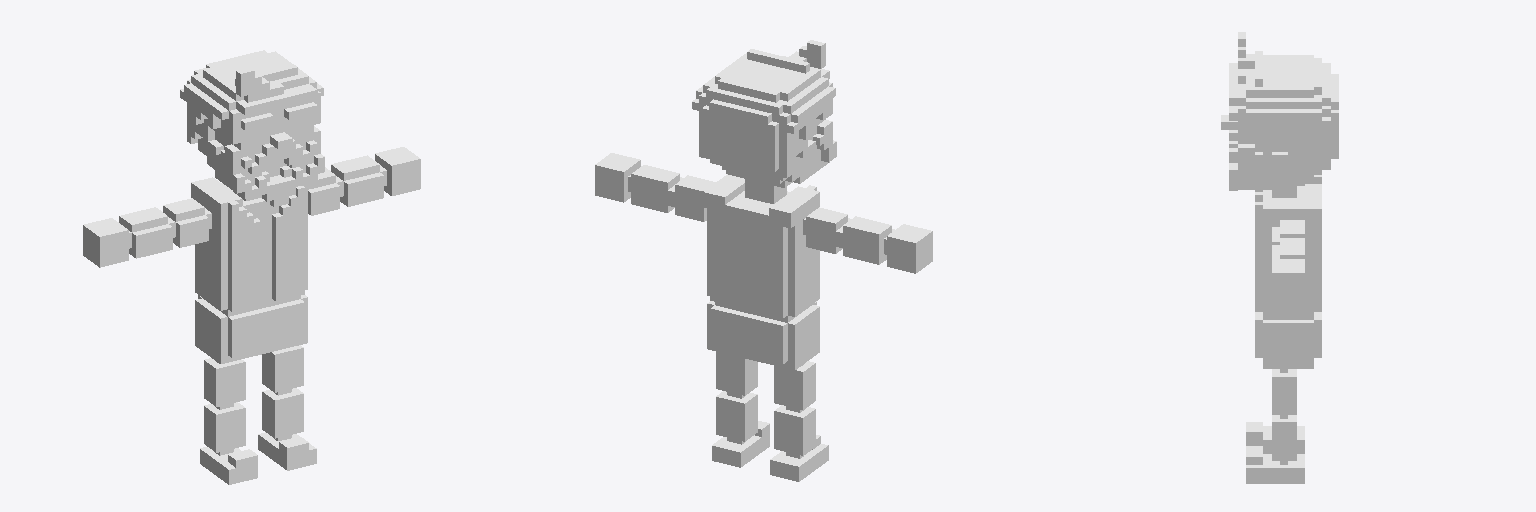
File: MainCharacter.obj
The picture shows the model from 3 angles: view 1: azimuth 30°, elevation 25°; view 2: azimuth 150°, elevation 25°; view 3: azimuth 270°, elevation 25°; orthographic projection.
Parts seen in each view (by area): view 1: object 1; view 2: object 1; view 3: object 1.
Boxes of the visible parts, x1,y1,x2,y2 form: object 1: [83, 50, 420, 484]; object 1: [595, 40, 932, 481]; object 1: [1221, 32, 1338, 483].
Bounding box in the file's own units: 4.4 × 5.4 × 1.4.